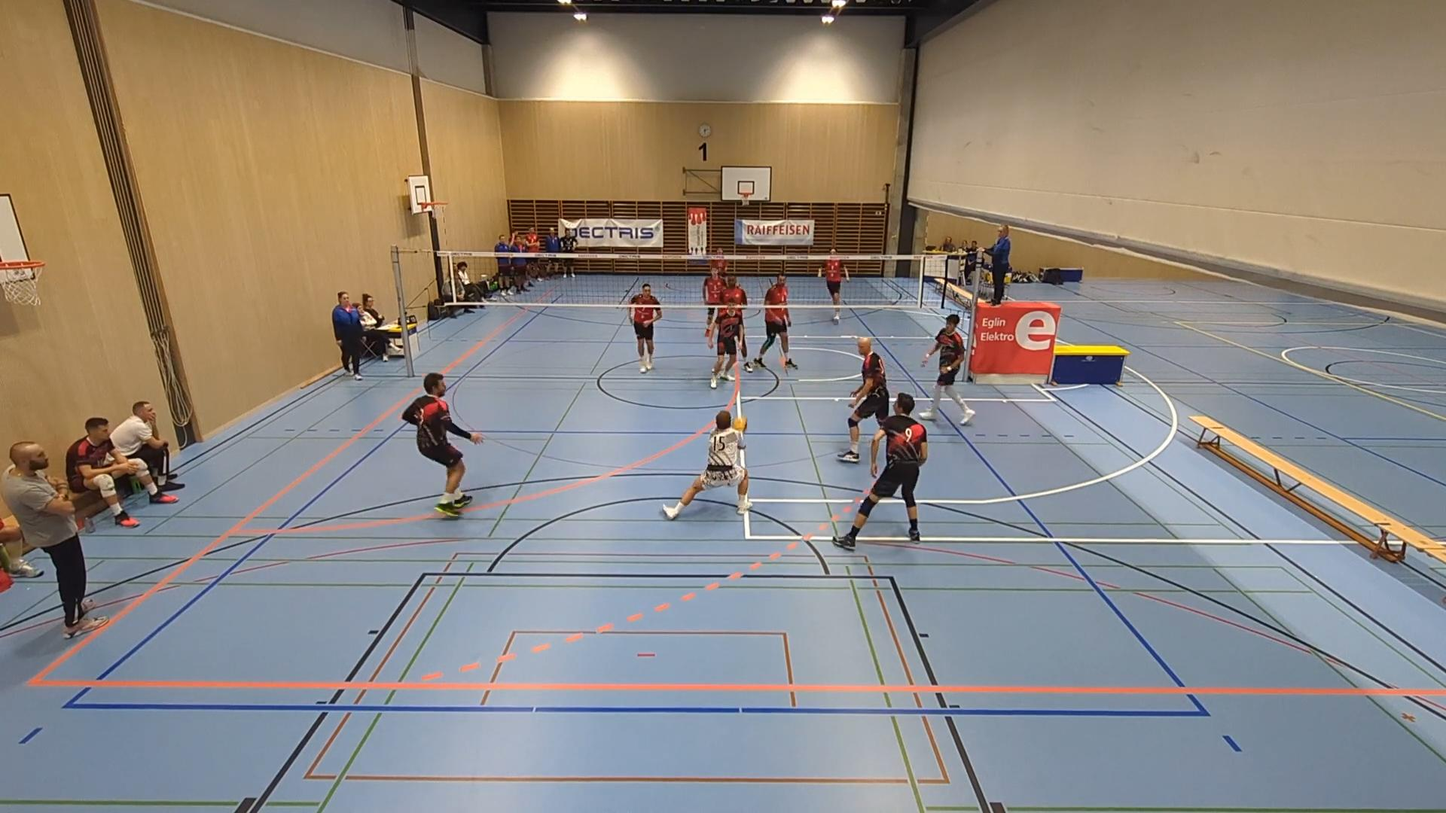ricezione: (662, 401, 752, 520)
